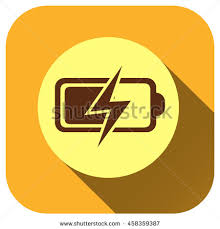charging sign: (44, 64, 179, 158)
